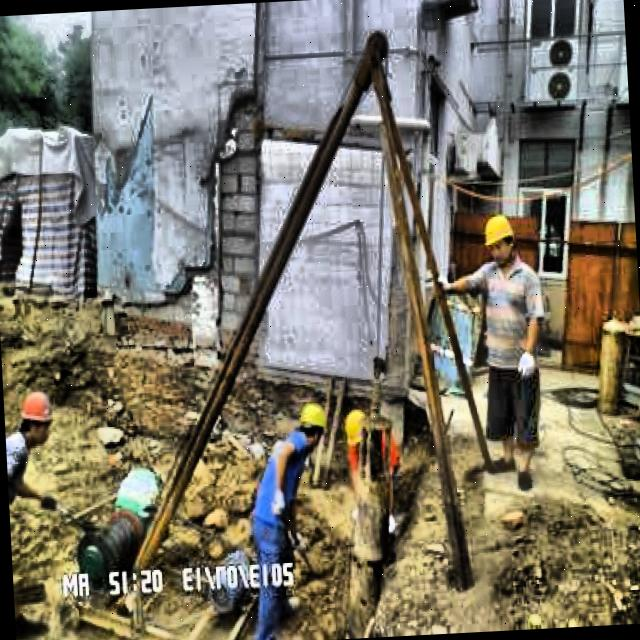helmet: (481, 210, 521, 266), (17, 390, 54, 444), (296, 398, 326, 454), (346, 407, 372, 455)
